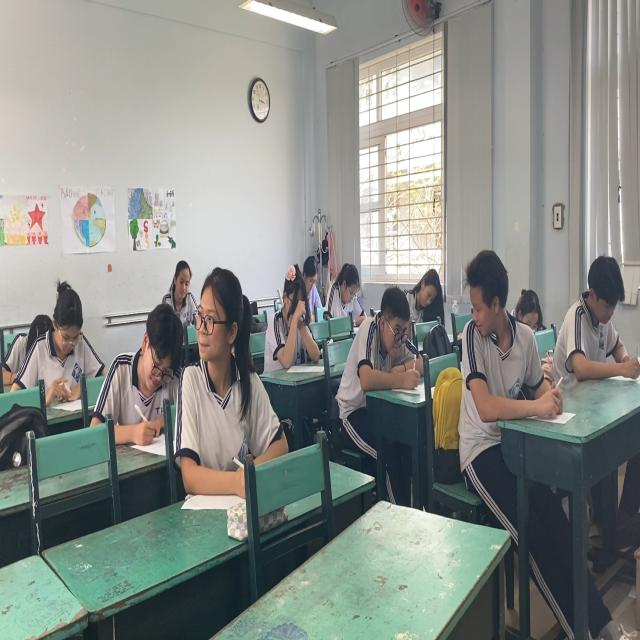cheating: (450, 247, 539, 426), (185, 268, 259, 464)
not_cheating: (549, 257, 640, 385), (108, 302, 187, 446), (351, 281, 426, 402), (20, 278, 96, 384), (266, 264, 320, 371), (330, 253, 366, 326), (162, 257, 195, 333), (405, 261, 444, 315)
